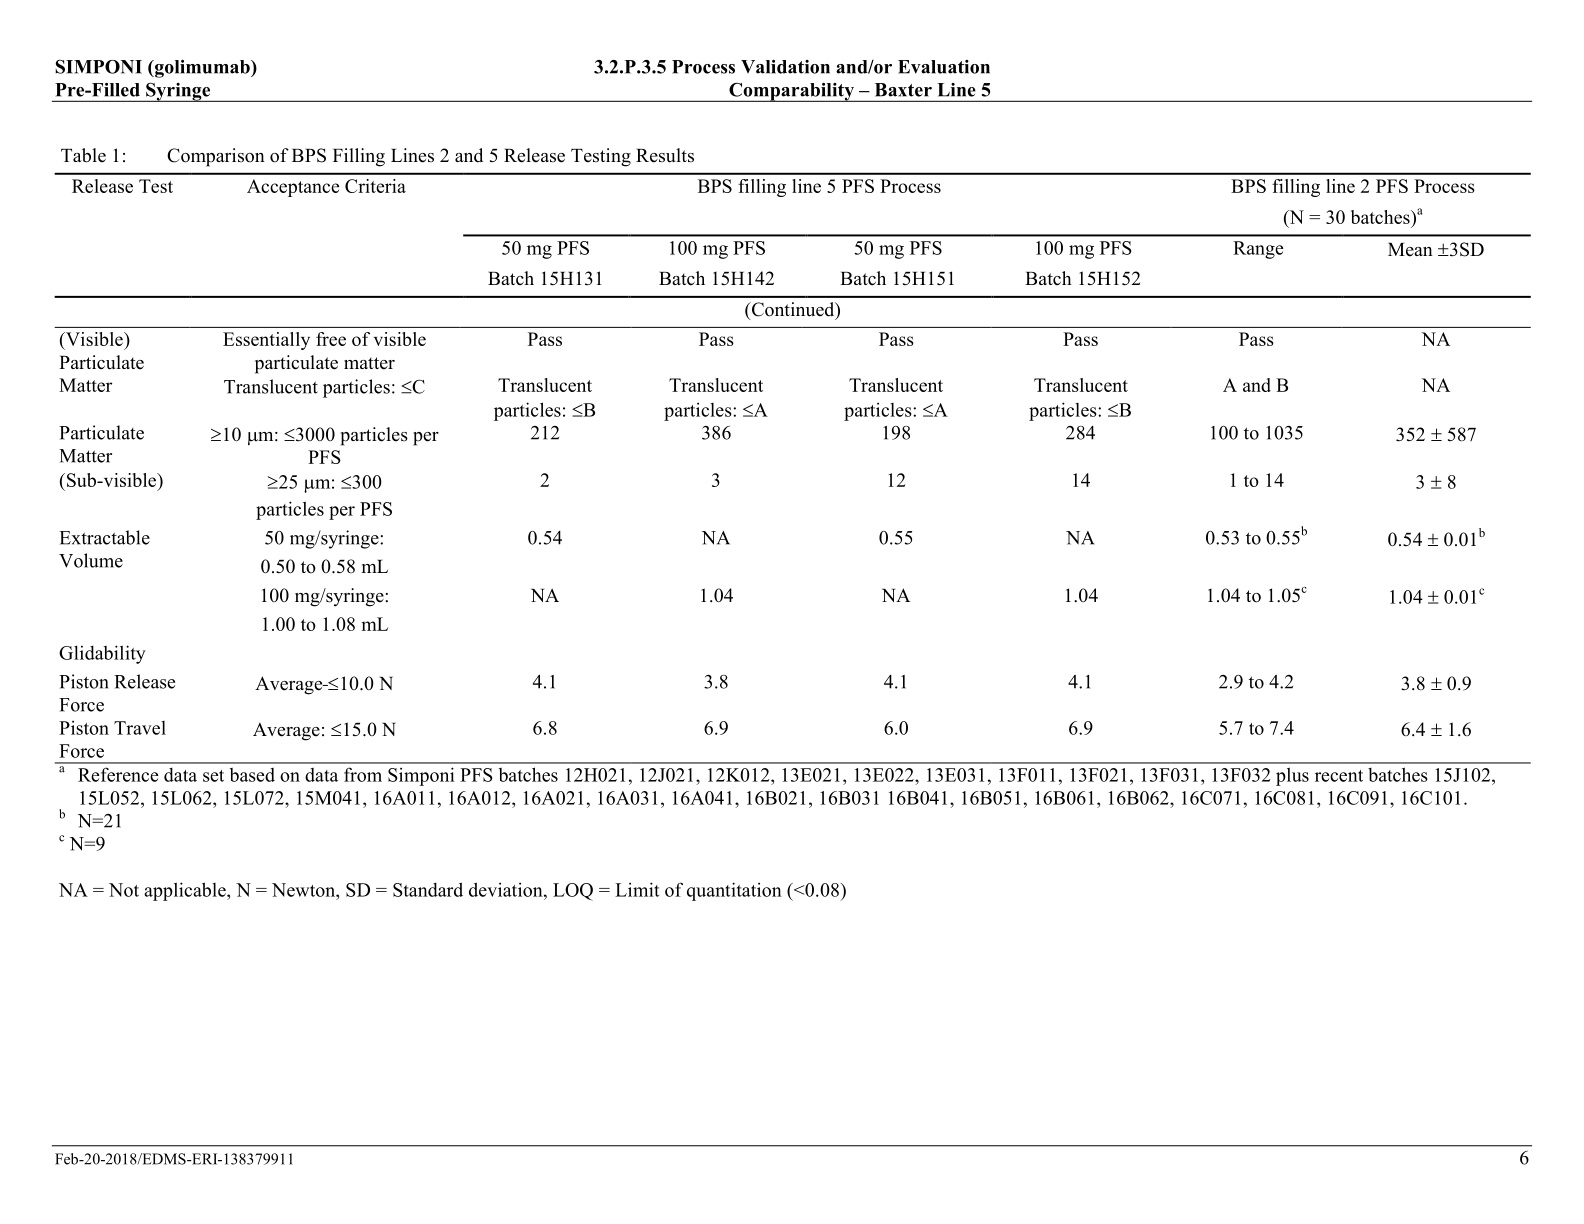partial_lined_merged_cells: (53, 171, 1531, 765)
